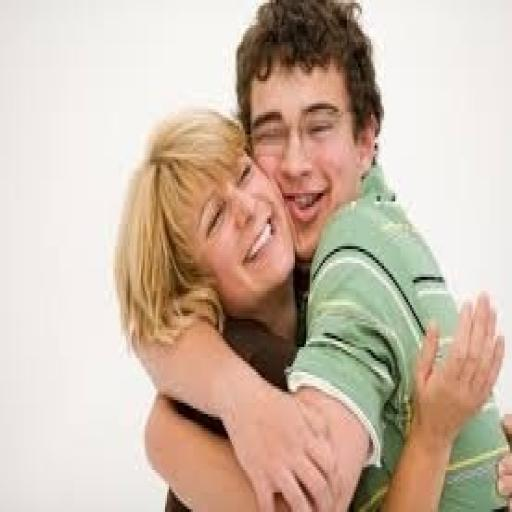hugging: (113, 0, 510, 509)
